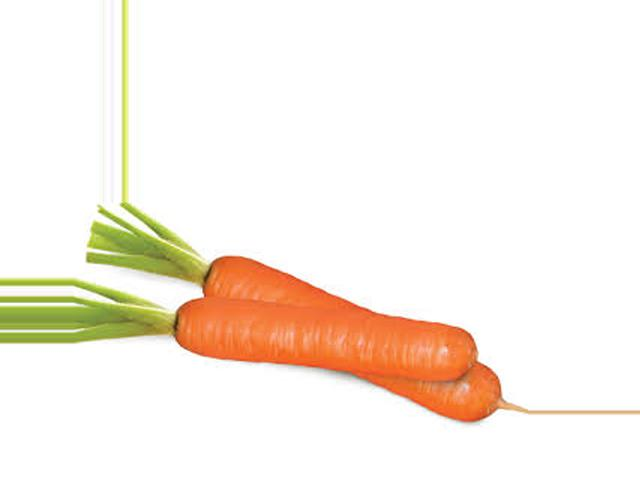carrot: (174, 253, 525, 415)
